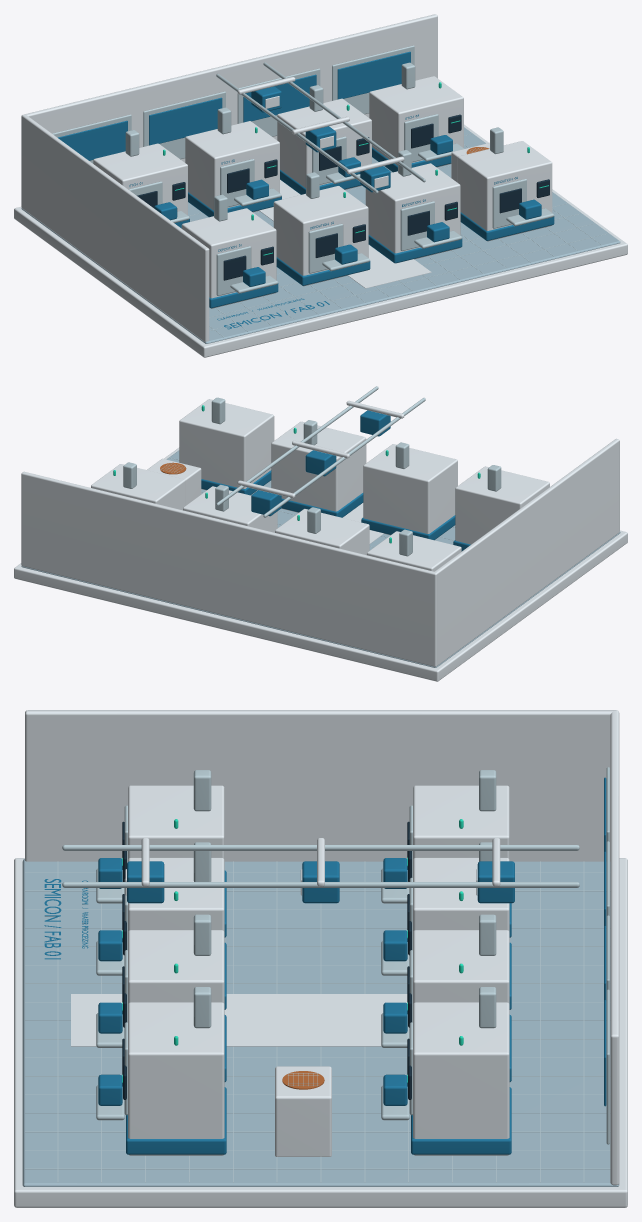
Rendered from fab_floor.glb.
3 views of the same model, one above another, from view 1: azimuth 30°, elevation 25°; view 2: azimuth 150°, elevation 25°; view 3: azimuth 270°, elevation 25° (orthographic). The views are drawn at different scales.
Visible parts, largest first — view 1: fab_ceramic_white, fab_cleanroom_floor, tool_05, fab_equipment_blue, tool_07, tool_06, tool_01, tool_03, tool_08, fab_brushed_metal, tool_02, tool_00; view 2: fab_ceramic_white, tool_05, tool_07, tool_06, tool_08, tool_01, tool_03, tool_00, tool_02, fab_cleanroom_floor, fab_brushed_metal, fab_equipment_blue (+1 smaller); view 3: fab_ceramic_white, fab_cleanroom_floor, tool_07, tool_03, fab_brushed_metal, tool_06, tool_02, tool_05, tool_08, tool_00, tool_01, tool_04 (+1 smaller).
Boxes of the visible parts, box(x1,y1,x2,y2) form: fab_ceramic_white: box(14, 14, 627, 357); fab_cleanroom_floor: box(21, 127, 620, 343); tool_05: box(273, 156, 404, 286); fab_equipment_blue: box(58, 51, 410, 329); tool_07: box(457, 127, 554, 241); tool_06: box(365, 150, 462, 263); tool_01: box(185, 107, 281, 217); tool_03: box(369, 62, 464, 172); tool_08: box(181, 194, 304, 320); fab_brushed_metal: box(52, 45, 608, 336); tool_02: box(277, 85, 371, 194); tool_00: box(93, 130, 189, 228); fab_ceramic_white: box(14, 438, 627, 681); tool_05: box(346, 400, 457, 540); tool_07: box(179, 397, 274, 495); tool_06: box(271, 420, 366, 517); tool_08: box(453, 465, 549, 551); tool_01: box(275, 507, 369, 554); tool_03: box(91, 462, 185, 510); tool_00: box(366, 529, 461, 571); tool_02: box(183, 484, 277, 532); fab_cleanroom_floor: box(21, 450, 620, 667); fab_brushed_metal: box(169, 386, 454, 547); fab_equipment_blue: box(251, 450, 336, 516); fab_ceramic_white: box(14, 710, 627, 1207); fab_cleanroom_floor: box(22, 859, 619, 1186); tool_07: box(96, 987, 226, 1155); tool_03: box(381, 987, 511, 1155); fab_brushed_metal: box(25, 767, 610, 1182); tool_06: box(96, 914, 226, 1081); tool_02: box(381, 914, 511, 1081); tool_05: box(96, 838, 226, 1009); tool_08: box(82, 770, 226, 948); tool_00: box(381, 770, 511, 937); tool_01: box(381, 842, 511, 1009); tool_04: box(275, 1066, 331, 1156).
Size of the model in its own units: 18 by 4.59 by 14.
